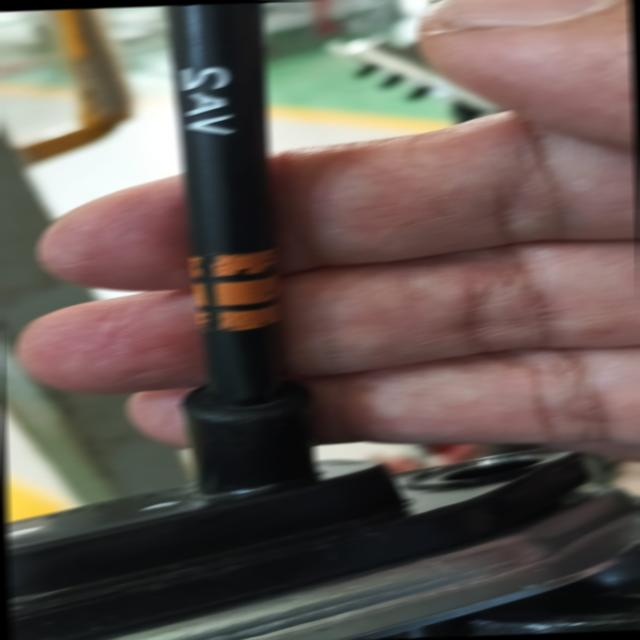orange: (189, 248, 284, 332)
